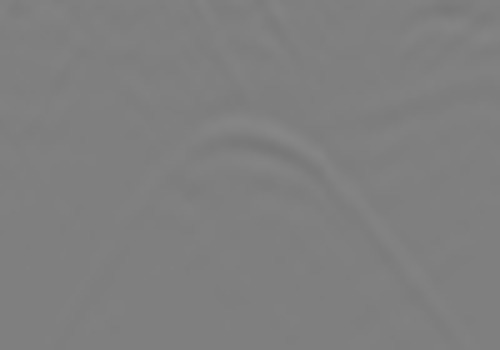hyperbola: (93, 116, 463, 350)
